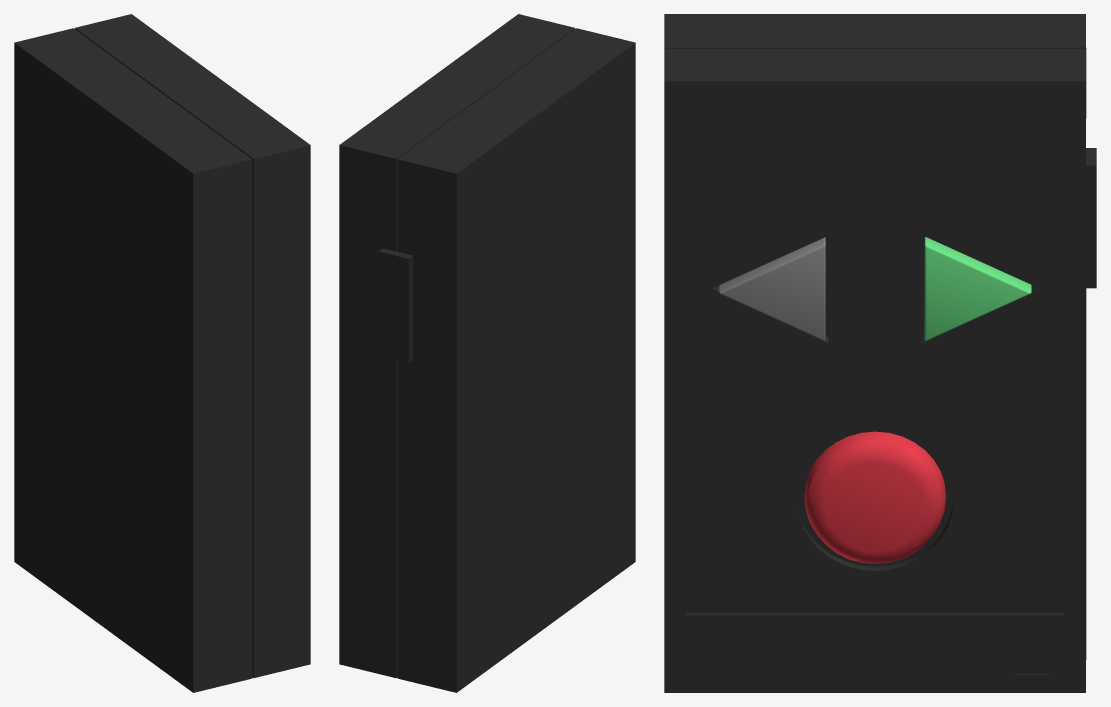
File: train remote controller.fbx
The picture shows the model from 3 angles, left to right: view 1: azimuth 30°, elevation 25°; view 2: azimuth 150°, elevation 25°; view 3: azimuth 270°, elevation 25°; orthographic projection. The views are drawn at different scales.
Parts seen in each view (by area): view 1: controller; view 2: controller; view 3: controller, Start Button, Right Arrow, Left Arror.
Boxes of the visible parts, box(x1,y1,x2,y2) form: controller: box(14, 14, 310, 692); controller: box(339, 14, 635, 692); controller: box(664, 14, 1096, 692); Start Button: box(804, 431, 945, 564); Right Arrow: box(924, 236, 1031, 340); Left Arror: box(718, 237, 825, 340).
Bounding box in the file's own units: 81.51 × 320 × 205.
